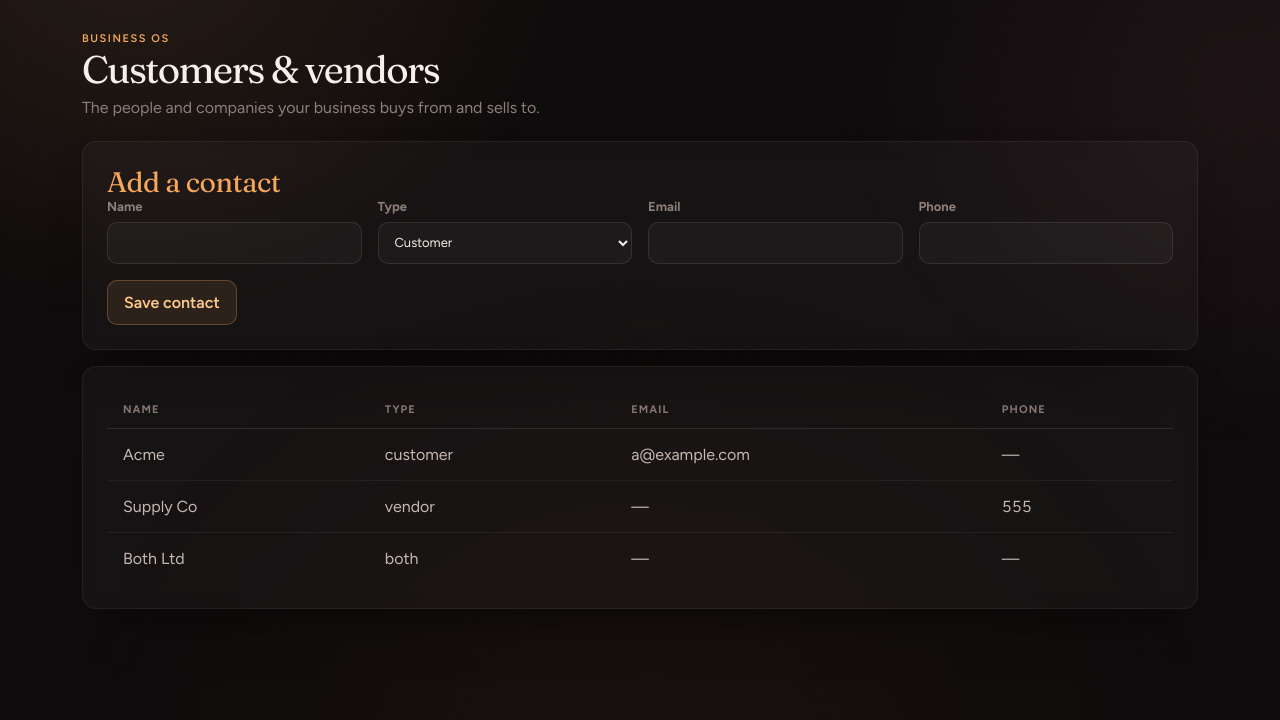
customers and vendors › surfaces the reason a save was refused
Check: the text "Acme" is shown, box [107,428,369,480]
Step 1. Click the button "Save contact" → [172, 302], box [107,280,237,325]
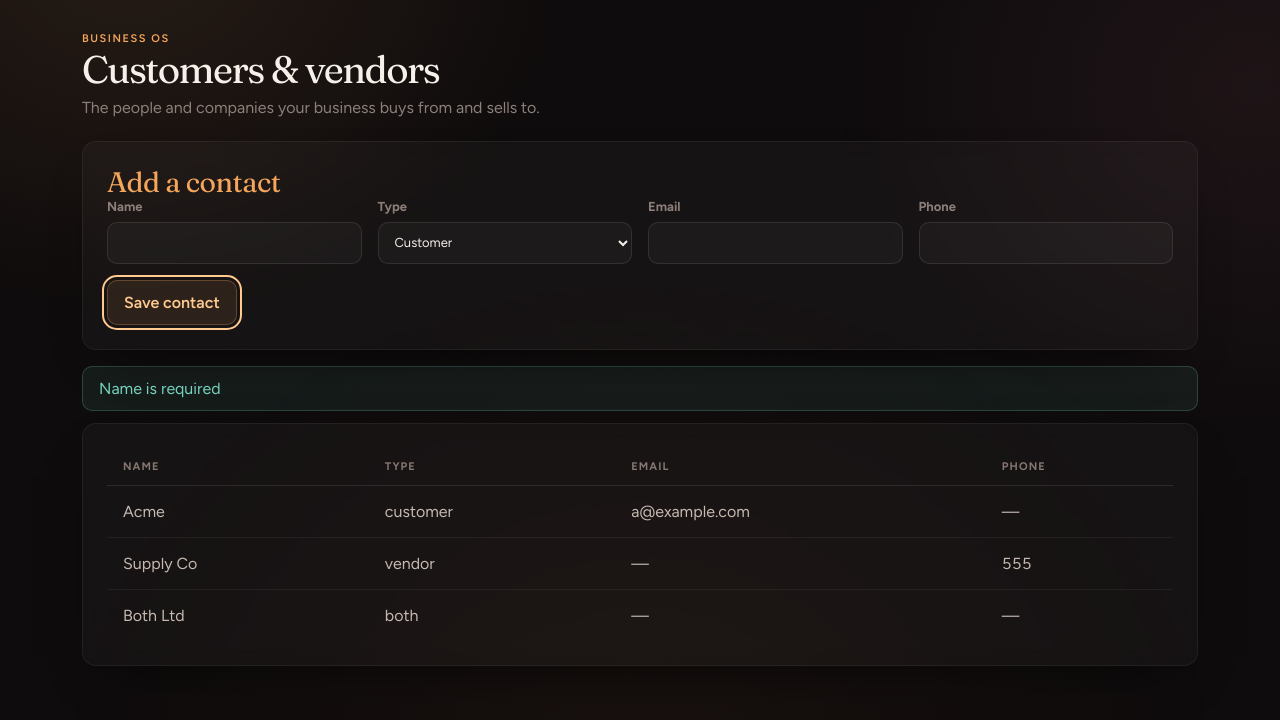
Check: the text "Name is required" is shown, box [82,366,1198,411]
